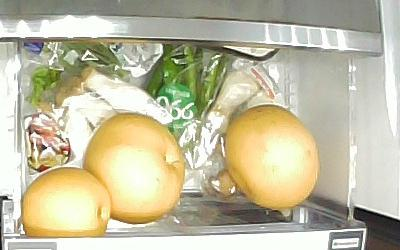pear: (83, 112, 185, 225), (225, 103, 322, 210), (23, 166, 110, 238)
